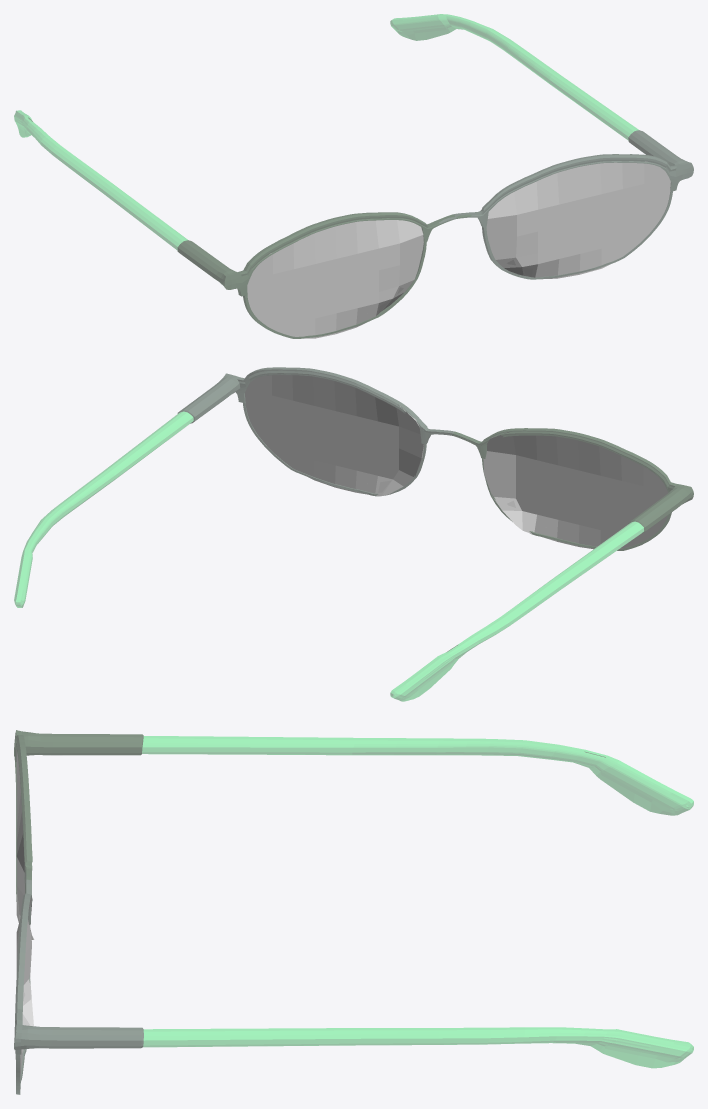
Rendered from 6-White.glb.
The picture shows the model from 3 angles, top to bottom: view 1: azimuth 30°, elevation 25°; view 2: azimuth 150°, elevation 25°; view 3: azimuth 270°, elevation 25°; orthographic projection. The views are drawn at different scales.
Parts seen in each view (by area): view 1: Lens, FrameFront, FrameEnd; view 2: Lens, FrameEnd, FrameFront; view 3: FrameEnd, FrameFront, Lens.
Boxes of the visible parts, x1,y1,x2,y2 form: Lens: (247, 161, 670, 338); FrameFront: (28, 117, 693, 338); FrameEnd: (14, 14, 638, 250); Lens: (245, 375, 668, 549); FrameEnd: (14, 411, 643, 701); FrameFront: (177, 367, 693, 652); FrameEnd: (142, 736, 693, 1068); FrameFront: (14, 730, 605, 1094); Lens: (16, 750, 34, 1075).
Bounding box in the file's own units: 2.22 × 0.517 × 2.09.
